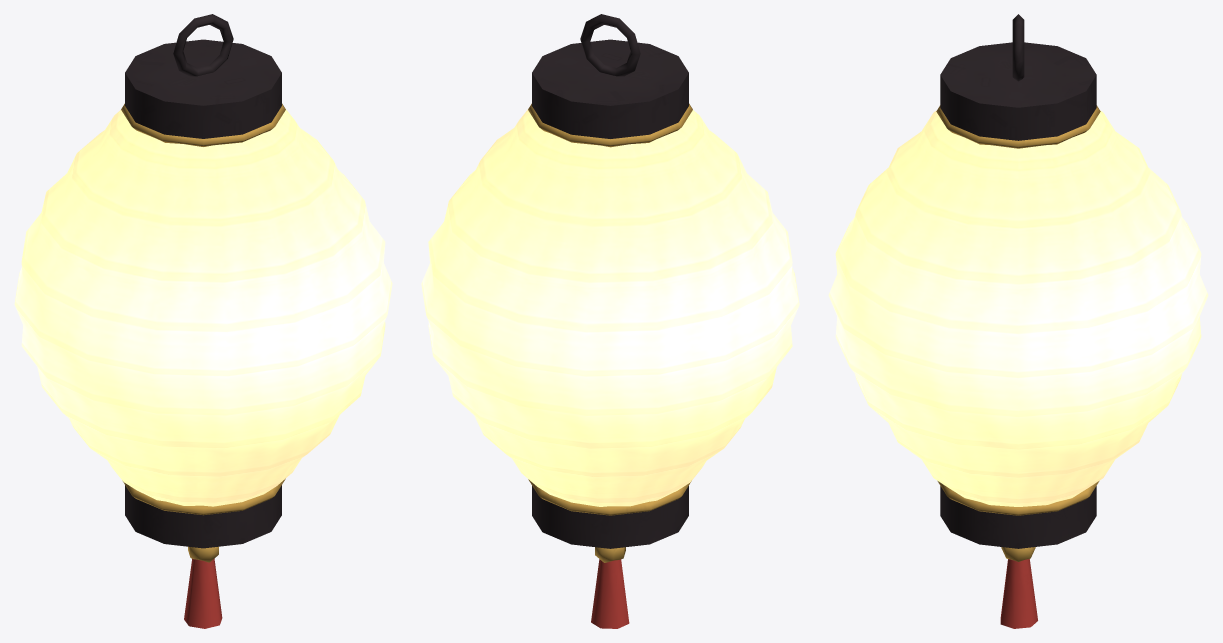
File: env_lantern_paper.glb
3 renders of one model, left to right at view 1: azimuth 30°, elevation 25°; view 2: azimuth 150°, elevation 25°; view 3: azimuth 270°, elevation 25°, orthographic.
Visible parts, largest first — view 1: env_lantern_paper; view 2: env_lantern_paper; view 3: env_lantern_paper.
Part boxes in pixels (box(x1,y1,x2,y2)): env_lantern_paper: box(14, 14, 392, 628); env_lantern_paper: box(421, 14, 799, 628); env_lantern_paper: box(828, 14, 1208, 628).
Size of the model in its own units: 0.656 by 1.15 by 0.656.
Materials: 2 (2 with a texture image).
